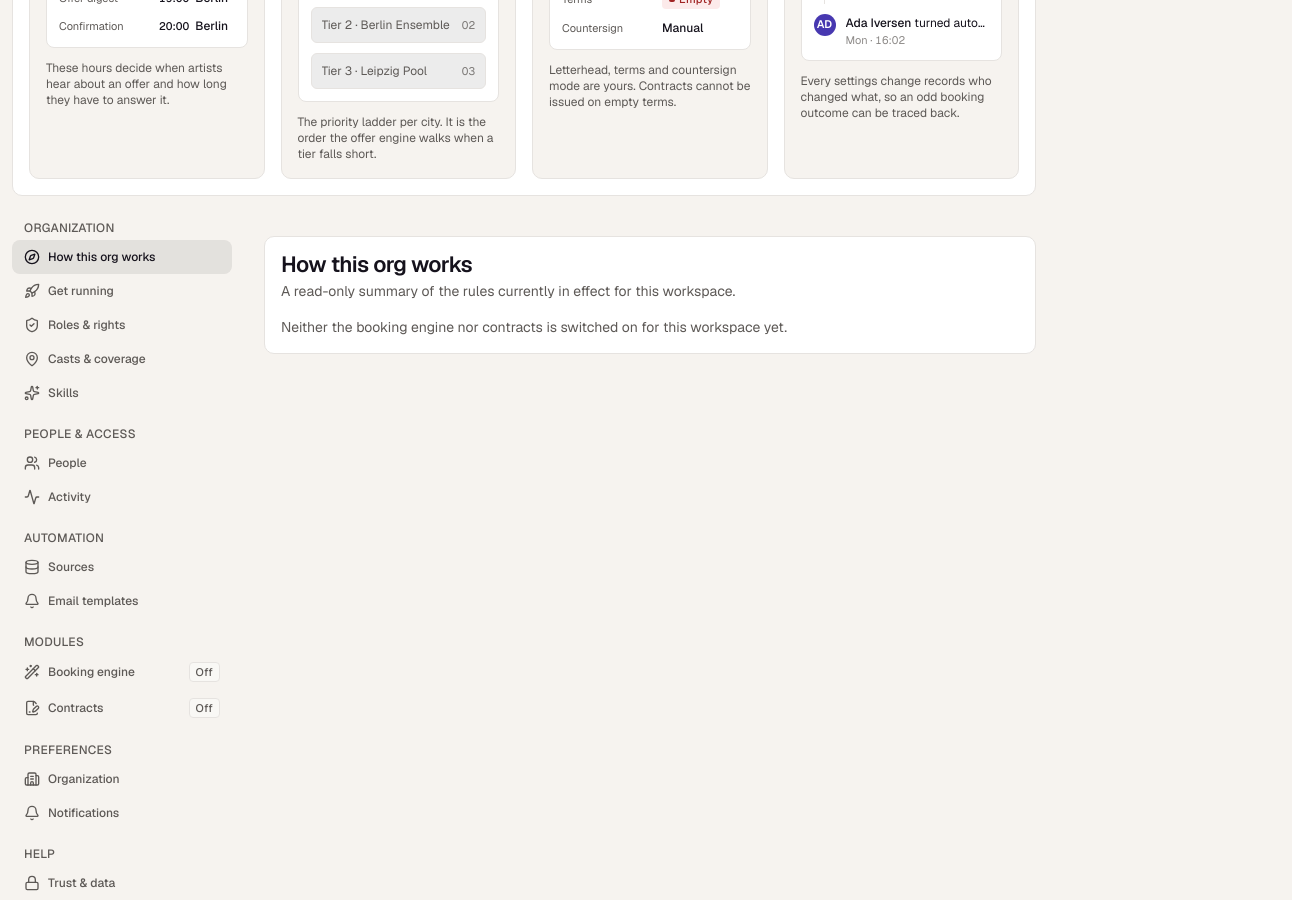
Test: SettingsPage Booking engine tab, locked (booking_flow not entitled) › keeps the page-level Save visible, with no rail dirty banner, when editing the from-address while locked
The image size is (1292, 900).
(page scrolled)
Press the mouse on the tab "Booking engine Off": (122, 672) x1=12 y1=654 x2=232 y2=690
(page scrolled)
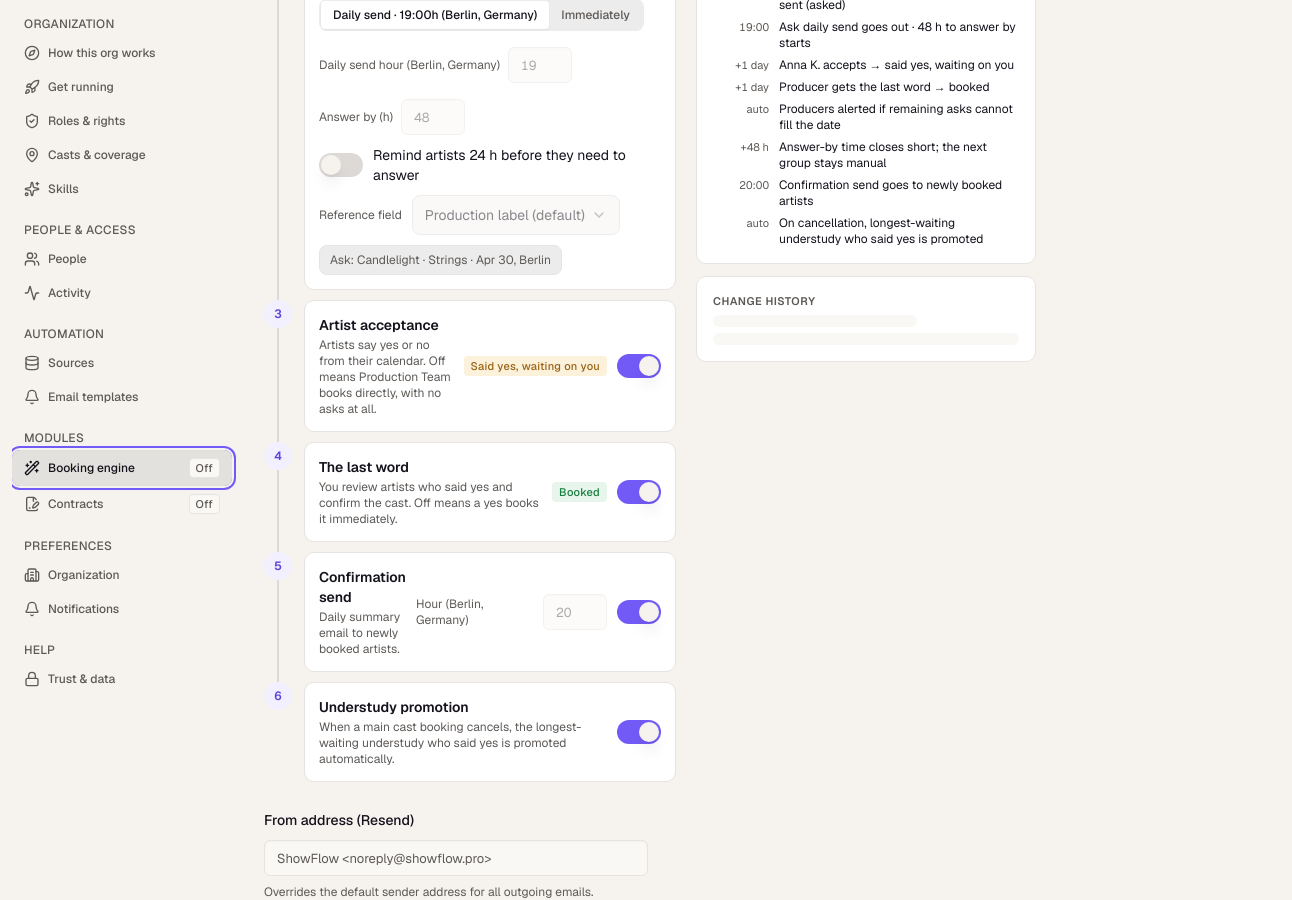
In the field labelled "From address (Resend)": (456, 858) x1=264 y1=840 x2=648 y2=876, type "Locked Org <noreply@locked.example>"
(page scrolled)
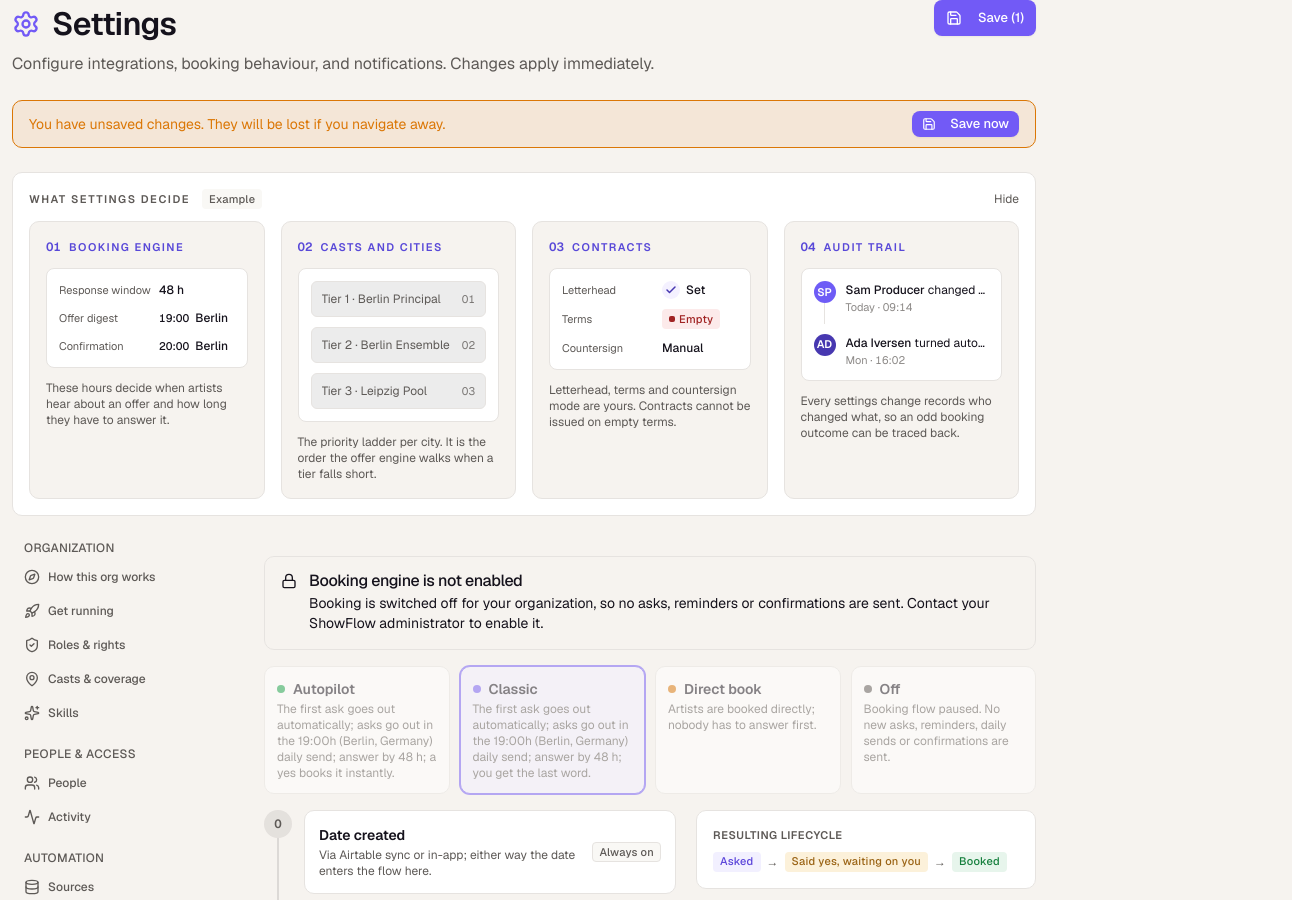
Result: the button "Save (1)" is shown at x1=934 y1=0 x2=1036 y2=36
Result: the text "unsaved changes" is shown at x1=29 y1=115 x2=445 y2=133
